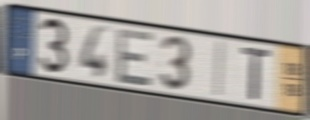3: (36, 15, 71, 78), (157, 34, 192, 93)
4: (77, 23, 110, 82)
E: (114, 27, 156, 89)
I: (212, 39, 227, 100)
T: (241, 45, 273, 103)
